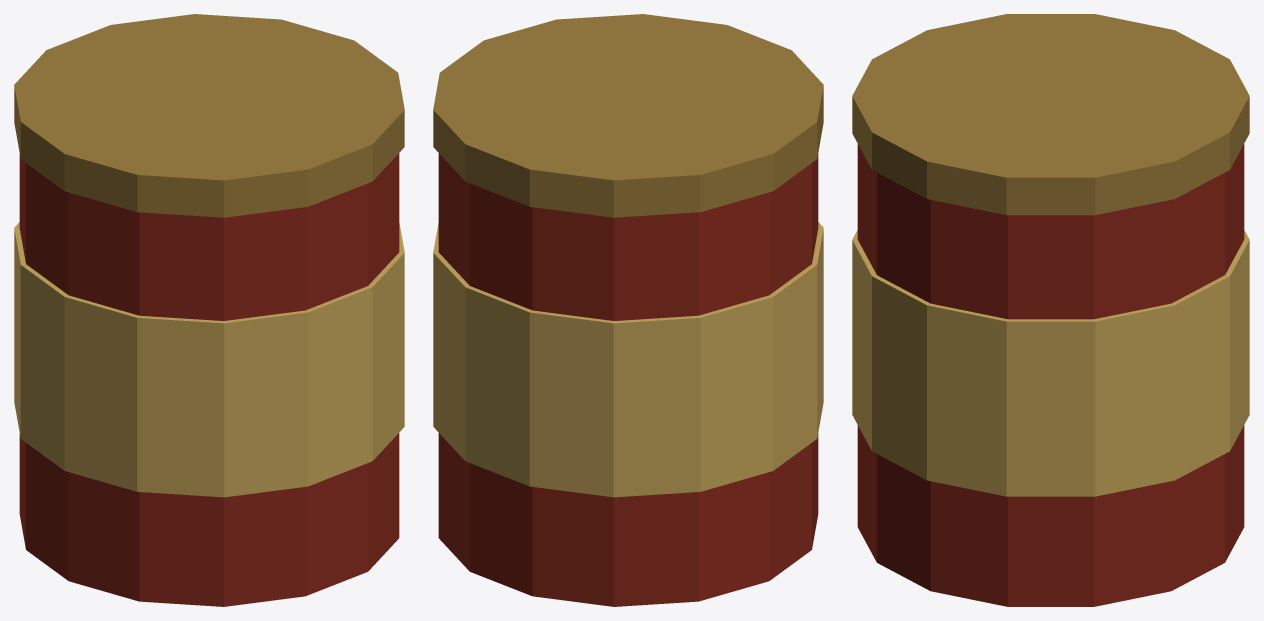
Rendered from TownFind_store.glb.
3 views of the same model, side by side, from view 1: azimuth 30°, elevation 25°; view 2: azimuth 150°, elevation 25°; view 3: azimuth 270°, elevation 25° (orthographic).
Parts seen in each view (by area): view 1: TownFind_store.001; view 2: TownFind_store.001; view 3: TownFind_store.001.
Boxes of the visible parts, left/top/right/bottom form: TownFind_store.001: left=14, top=14, right=404, bottom=606; TownFind_store.001: left=433, top=14, right=823, bottom=606; TownFind_store.001: left=852, top=14, right=1249, bottom=606.
Size of the model in its own units: 0.1404 by 0.1725 by 0.144.
